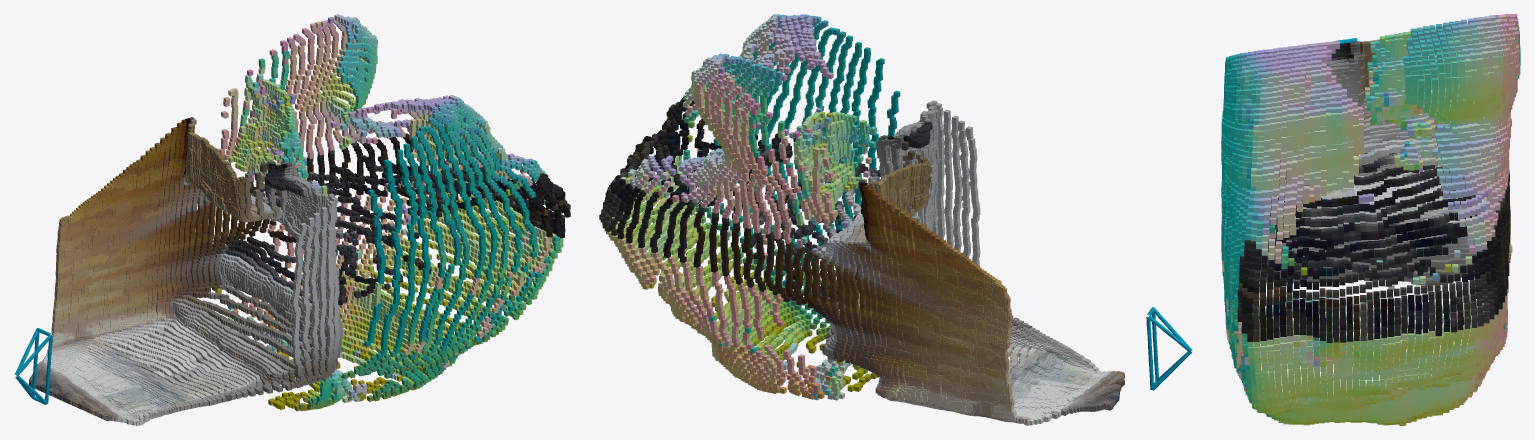
Rendered from pred_0-compressed.glb.
The picture shows the model from 3 angles, left to right: view 1: azimuth 30°, elevation 25°; view 2: azimuth 150°, elevation 25°; view 3: azimuth 270°, elevation 25°; orthographic projection. The views are drawn at different scales.
Size of the model in its own units: 6.53 by 3.78 by 2.49.
